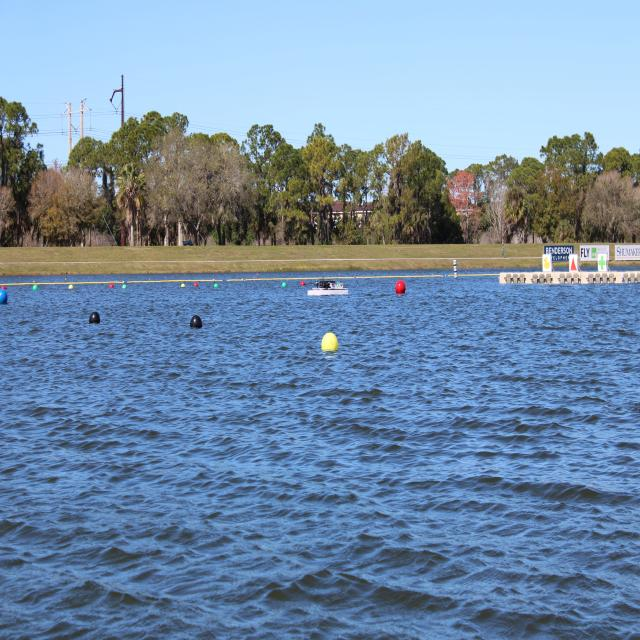black-buoy: (189, 315, 202, 329), (90, 312, 102, 325)
blue-buoy: (0, 288, 9, 304)
blue-cross: (595, 251, 606, 273)
red-buoy: (394, 280, 406, 296), (193, 282, 197, 288)
red-dot: (568, 251, 580, 273)
yellow-buoy: (324, 334, 341, 354)
yellow-duck: (544, 256, 551, 272)
